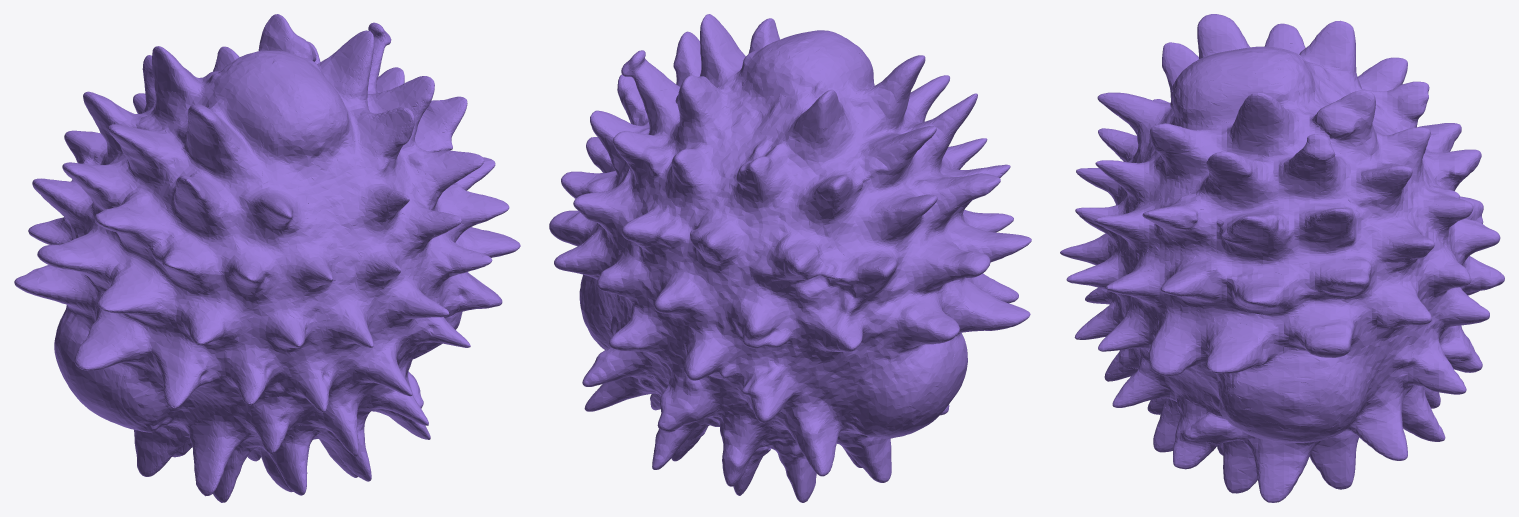
File: 3DPX-017880-0.glb
The picture shows the model from 3 angles, left to right: view 1: azimuth 30°, elevation 25°; view 2: azimuth 150°, elevation 25°; view 3: azimuth 270°, elevation 25°; orthographic projection. The views are drawn at different scales.
Size of the model in its own units: 38.15 by 36.65 by 34.92.
